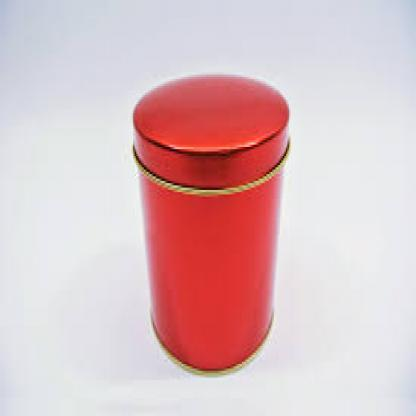Compsot: (132, 72, 289, 371)
